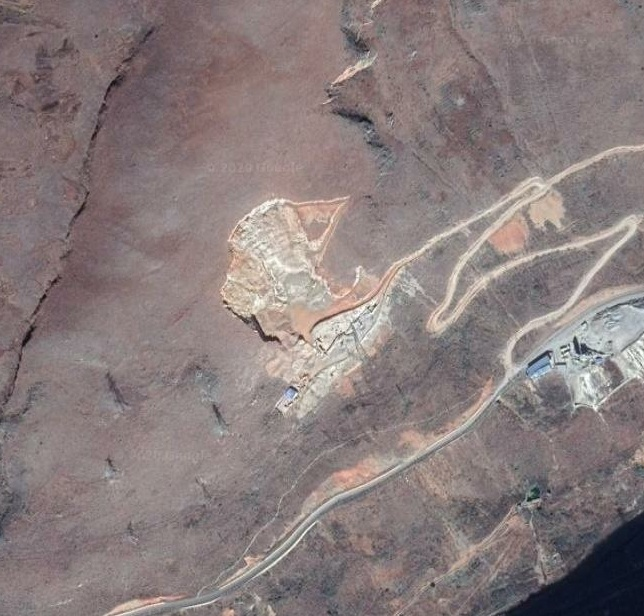slope: (220, 196, 401, 412), (275, 378, 495, 538), (587, 302, 643, 381), (530, 187, 569, 231), (492, 213, 526, 251)
